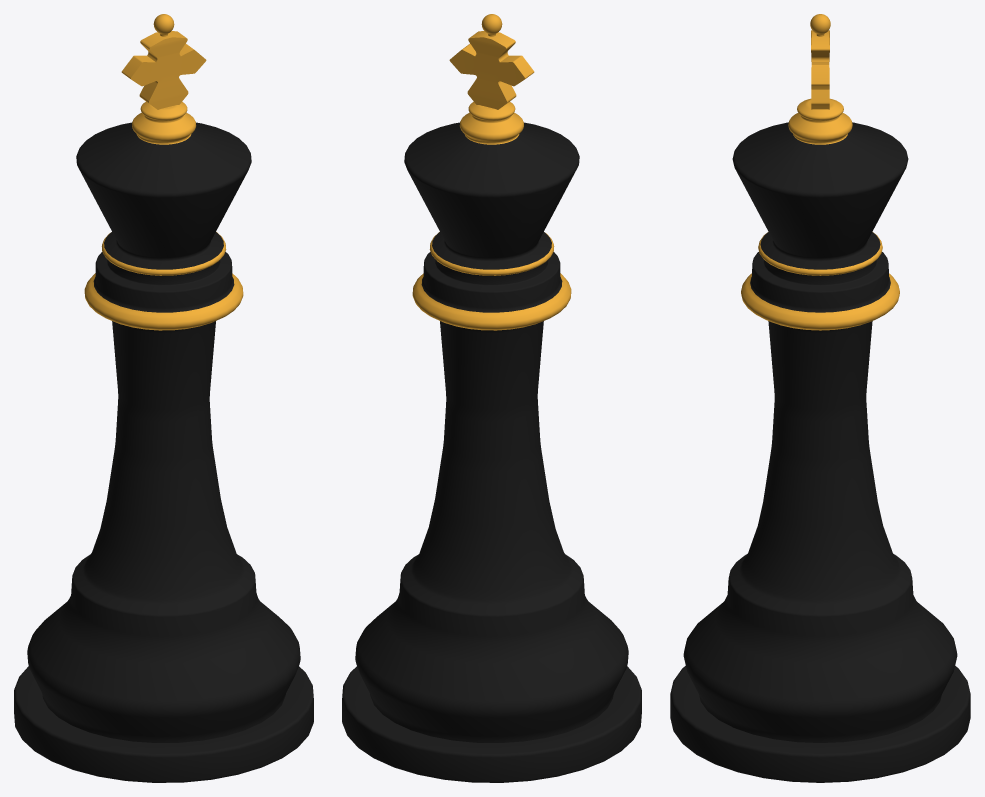
File: gercek6_k_b.glb
3 renders of one model, left to right at view 1: azimuth 30°, elevation 25°; view 2: azimuth 150°, elevation 25°; view 3: azimuth 270°, elevation 25°, orthographic.
Parts seen in each view (by area): view 1: Circle.029; view 2: Circle.029; view 3: Circle.029.
Boxes of the visible parts, x1,y1,x2,y2 form: Circle.029: (14, 14, 313, 782); Circle.029: (342, 14, 641, 782); Circle.029: (670, 14, 970, 782).
Bounding box in the file's own units: 33.56 × 86.98 × 33.56.
